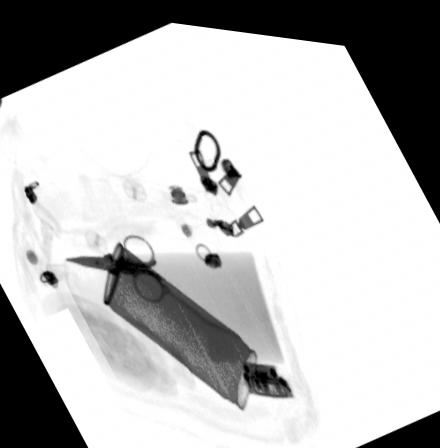Scissors: (64, 229, 168, 299)
